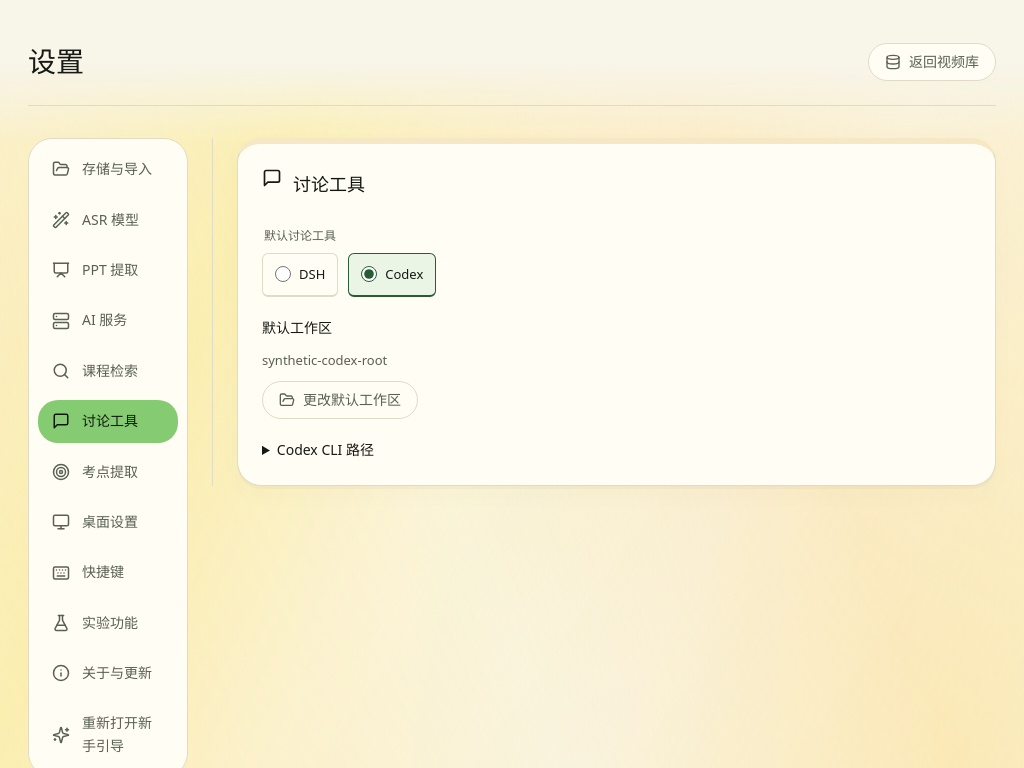
Test: locks the tool choice while the codex folder picker is open
The image size is (1024, 768).
Click the button "更改默认工作区". click: x=340, y=400
box: [262, 381, 418, 419]
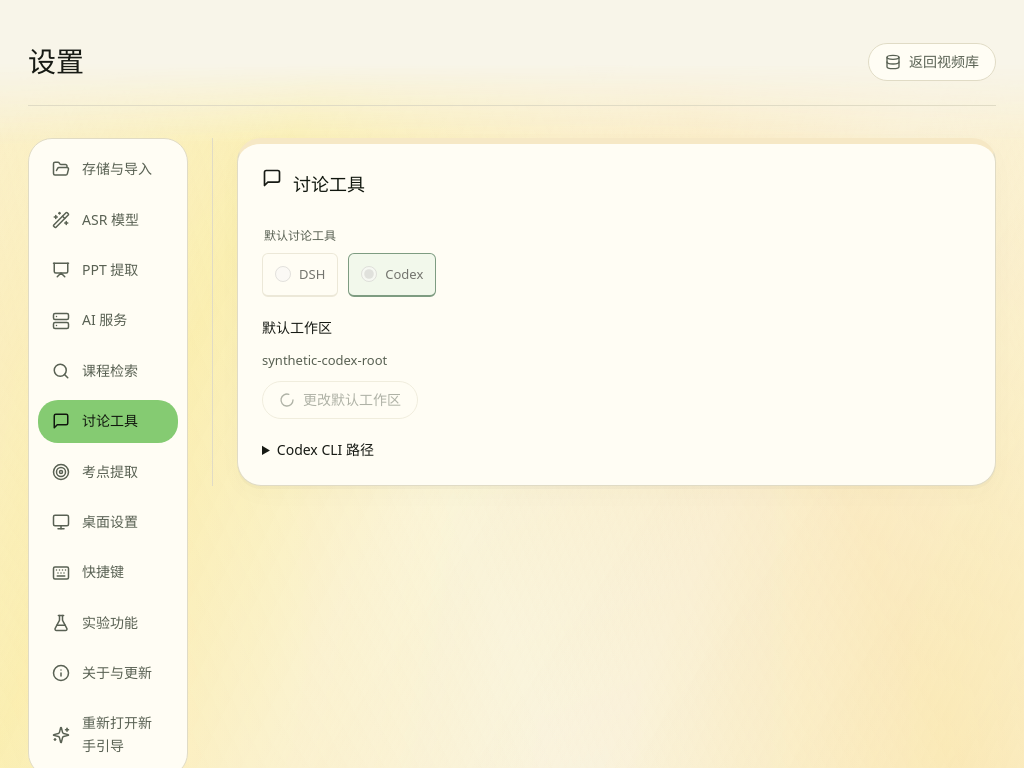
Expected: the element with class "discussion-provider-selector" is disabled, [262, 227, 436, 297]
Click the radio button labelled "DSH". click: x=283, y=274
box: [275, 266, 291, 282]
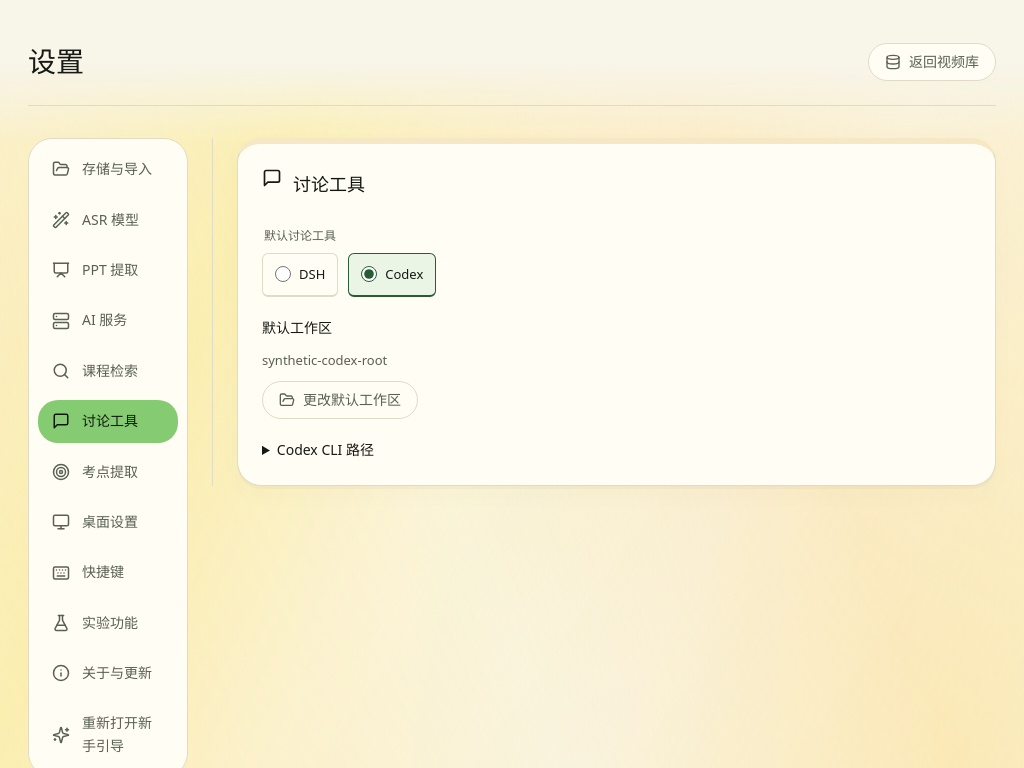
Expected: the element with class "discussion-provider-selector" is enabled, [262, 227, 436, 297]
